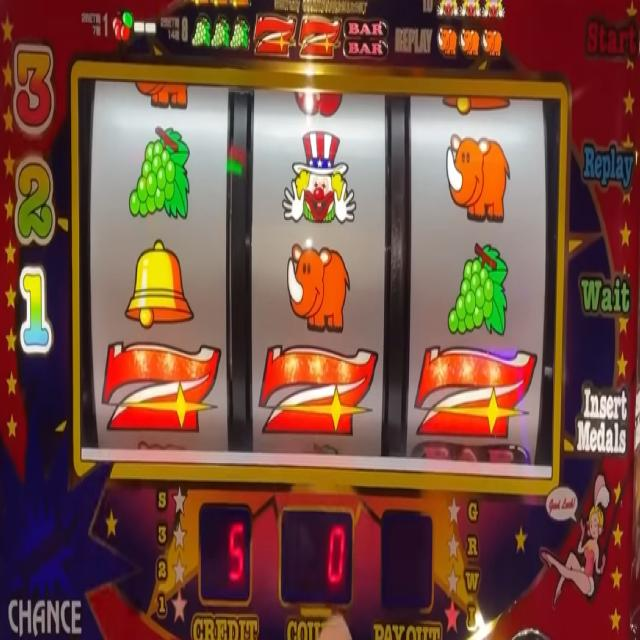bar: (343, 21, 388, 60)
bell: (123, 236, 195, 336)
cherry: (292, 88, 345, 116), (112, 8, 134, 45)
clown: (283, 127, 356, 228), (437, 0, 458, 22), (459, 0, 482, 20), (484, 0, 504, 23)
display: (77, 76, 553, 478)
elephant: (445, 123, 511, 222), (286, 240, 352, 335), (131, 76, 190, 111), (459, 25, 481, 60), (436, 27, 458, 58), (483, 29, 502, 60)
grape: (128, 126, 190, 231), (445, 240, 512, 337), (211, 16, 230, 51), (191, 20, 211, 51), (230, 22, 249, 53)
z: (418, 346, 536, 447), (102, 339, 218, 438), (259, 335, 373, 433), (251, 17, 293, 62), (299, 12, 338, 60)
